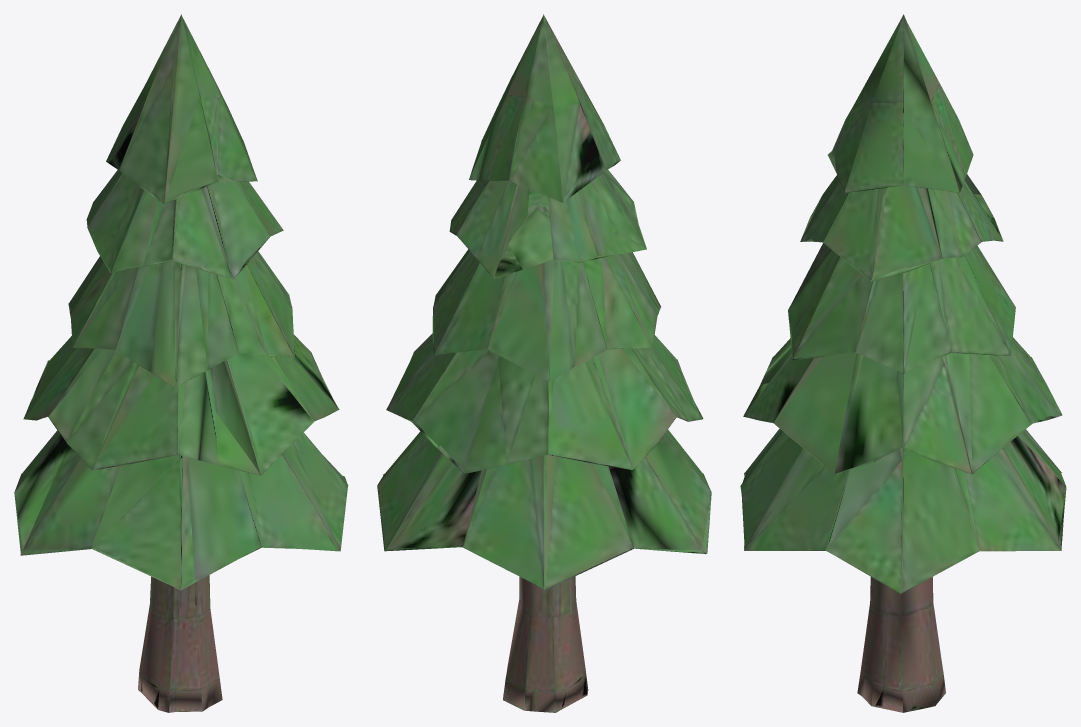
Rendered from 41-pine-tree.glb.
3 views of the same model, side by side, from view 1: azimuth 30°, elevation 25°; view 2: azimuth 150°, elevation 25°; view 3: azimuth 270°, elevation 25° (orthographic).
Parts seen in each view (by area): view 1: geometry_0; view 2: geometry_0; view 3: geometry_0.
Boxes of the visible parts, x1,y1,x2,y2 form: geometry_0: (14,14,348,712); geometry_0: (377,14,711,712); geometry_0: (740,14,1066,712).
Size of the model in its own units: 0.4741 by 0.9502 by 0.4126.
1 material, 1 textured.
